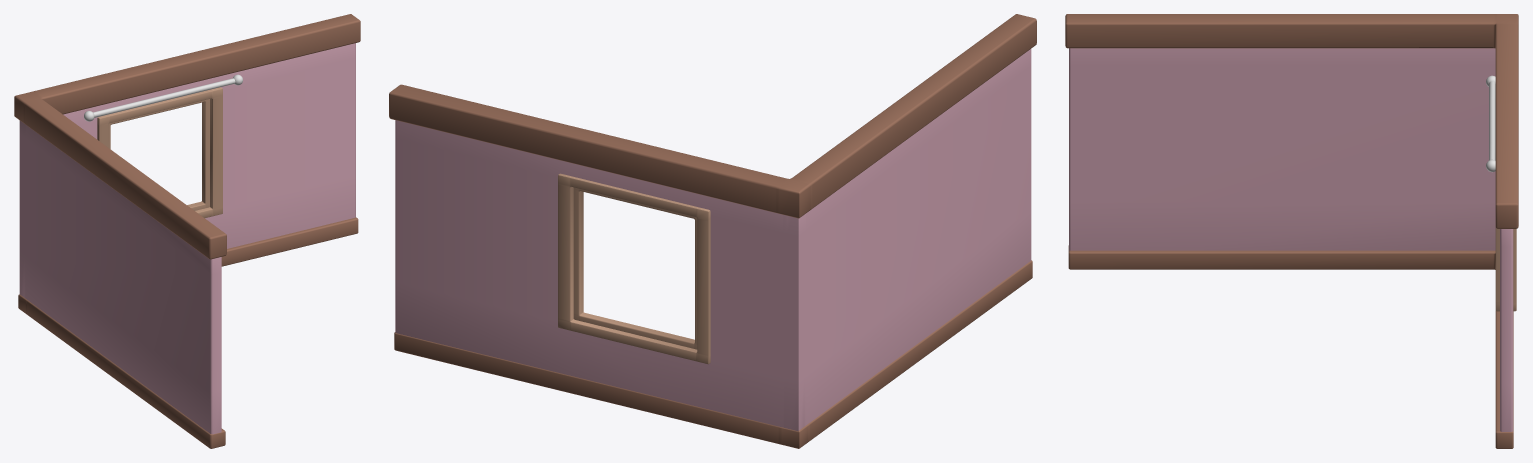
Rendered from wall.gltf.
3 views of the same model, side by side, from view 1: azimuth 30°, elevation 25°; view 2: azimuth 150°, elevation 25°; view 3: azimuth 270°, elevation 25° (orthographic). The views are drawn at different scales.
Visible parts, largest first — view 1: Cube.1 (×2), Cube.2, Cube.3, Cube, Cylinder; view 2: Cube.1 (×2), Cube.2, Cube.3, Cube; view 3: Cube.1 (×2), Cube.2, Cube.3, Cylinder.
Part boxes in pixels (<box>): Cube.1 (×2): <box>19,43,355,434</box>; Cube.2: <box>14,14,360,259</box>; Cube.3: <box>18,217,358,448</box>; Cube: <box>108,99,209,210</box>; Cylinder: <box>93,78,235,117</box>; Cube.1 (×2): <box>395,49,1031,431</box>; Cube.2: <box>389,14,1036,218</box>; Cube.3: <box>394,260,1032,448</box>; Cube: <box>573,187,697,349</box>; Cube.1 (×2): <box>1069,48,1516,431</box>; Cube.2: <box>1065,14,1518,228</box>; Cube.3: <box>1068,245,1513,448</box>; Cylinder: <box>1489,81,1495,160</box>.
Bounding box in the file's own units: 2.04 × 1.23 × 2.05.
